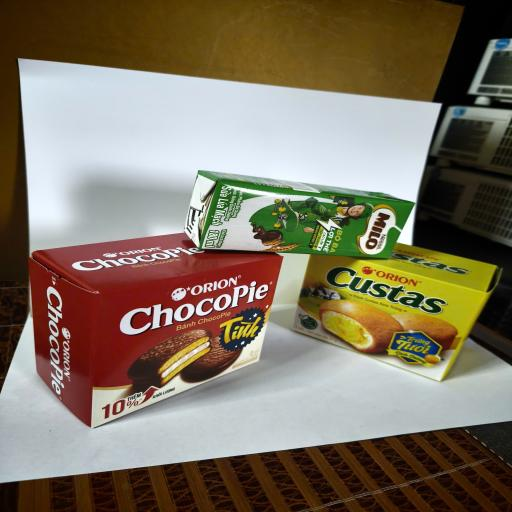chocopie: (28, 232, 285, 429)
custas: (290, 241, 502, 382)
milo: (184, 170, 416, 260)
